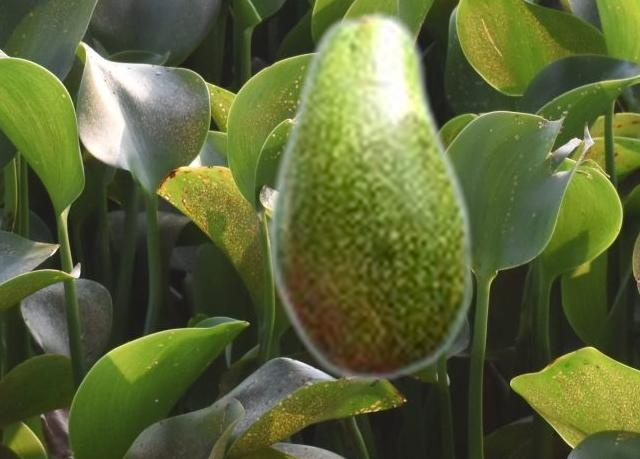avocado: (267, 7, 474, 385)
